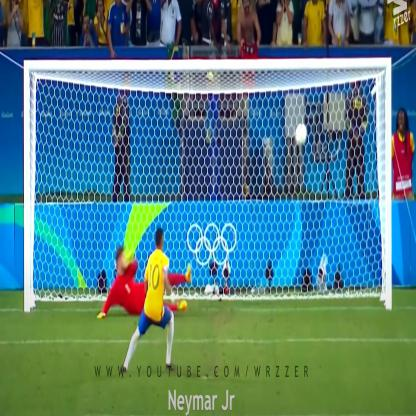goal: (268, 45, 401, 197)
